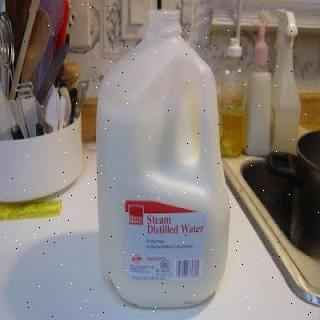Plastic-bottle: (95, 4, 233, 314)
